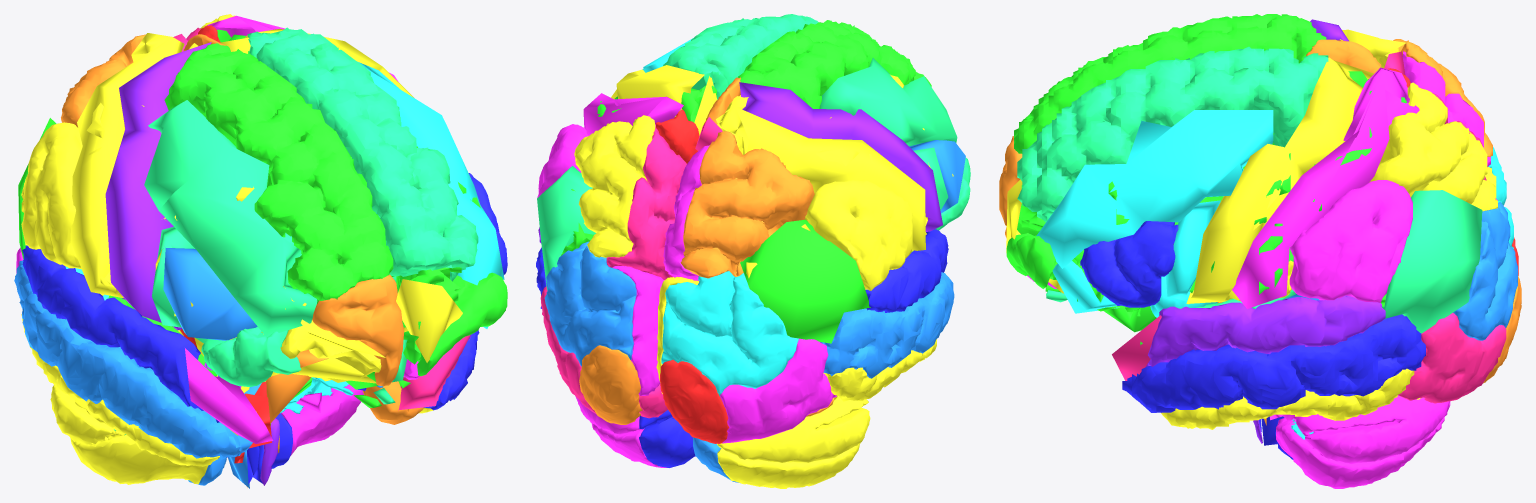
Rendered from gehirn-female-lod.glb.
3 renders of one model, left to right at view 1: azimuth 30°, elevation 25°; view 2: azimuth 150°, elevation 25°; view 3: azimuth 270°, elevation 25°, orthographic. The views are drawn at different scales.
Visible parts, largest first — view 1: 0:113:Allen_superior_frontal_gyrus_L, 0:261:Allen_superior_frontal_gyrus_R, 0:70:Allen_middle_frontal_gyrus_L, 0:71:Allen_middle_temporal_gyrus_L, 0:98:Allen_precentral_gyrus_L, 0:115:Allen_superior_temporal_gyrus_L, 0:92:Allen_postcentral_gyrus_L, 0:116:Allen_supramarginal_gyrus_L, 0:55:Allen_lateral_hemisphere_of_cerebellum_L, 0:214:Allen_middle_frontal_gyrus_R, 0:106:Allen_rostral_gyrus_L, 0:47:Allen_inferior_frontal_gyrus_triangular_part_L (+23 smaller); view 2: 0:118:Allen_supraparietal_lobule_L, 0:114:Allen_superior_occipital_gyrus_L, 0:2:Allen_angular_gyrus_L, 0:55:Allen_lateral_hemisphere_of_cerebellum_L, 0:113:Allen_superior_frontal_gyrus_L, 0:262:Allen_superior_occipital_gyrus_R, 0:116:Allen_supramarginal_gyrus_L, 0:92:Allen_postcentral_gyrus_L, 0:266:Allen_supraparietal_lobule_R, 0:71:Allen_middle_temporal_gyrus_L, 0:98:Allen_precentral_gyrus_L, 0:49:Allen_inferior_occipital_gyrus_L (+28 smaller); view 3: 0:261:Allen_superior_frontal_gyrus_R, 0:214:Allen_middle_frontal_gyrus_R, 0:215:Allen_middle_temporal_gyrus_R, 0:242:Allen_precentral_gyrus_R, 0:236:Allen_postcentral_gyrus_R, 0:264:Allen_supramarginal_gyrus_R, 0:263:Allen_superior_temporal_gyrus_R, 0:195:Allen_lateral_hemisphere_of_cerebellum_R, 0:113:Allen_superior_frontal_gyrus_L, 0:138:Allen_angular_gyrus_R, 0:266:Allen_supraparietal_lobule_R, 0:187:Allen_inferior_frontal_gyrus_triangular_part_R (+18 smaller).
Part boxes in pixels (x1,y1,x2,y2): 0:113:Allen_superior_frontal_gyrus_L: [164, 43, 393, 303]; 0:261:Allen_superior_frontal_gyrus_R: [247, 27, 478, 281]; 0:70:Allen_middle_frontal_gyrus_L: [144, 100, 317, 336]; 0:71:Allen_middle_temporal_gyrus_L: [14, 260, 252, 459]; 0:98:Allen_precentral_gyrus_L: [105, 42, 211, 327]; 0:115:Allen_superior_temporal_gyrus_L: [22, 245, 219, 422]; 0:92:Allen_postcentral_gyrus_L: [70, 33, 184, 298]; 0:116:Allen_supramarginal_gyrus_L: [21, 122, 82, 269]; 0:55:Allen_lateral_hemisphere_of_cerebellum_L: [50, 385, 208, 484]; 0:214:Allen_middle_frontal_gyrus_R: [357, 61, 504, 285]; 0:106:Allen_rostral_gyrus_L: [312, 274, 404, 386]; 0:47:Allen_inferior_frontal_gyrus_triangular_part_L: [163, 248, 257, 340]; 0:118:Allen_supraparietal_lobule_L: [680, 131, 814, 278]; 0:114:Allen_superior_occipital_gyrus_L: [661, 271, 798, 396]; 0:2:Allen_angular_gyrus_L: [740, 219, 870, 343]; 0:55:Allen_lateral_hemisphere_of_cerebellum_L: [717, 396, 870, 488]; 0:113:Allen_superior_frontal_gyrus_L: [738, 20, 931, 108]; 0:262:Allen_superior_occipital_gyrus_R: [544, 241, 636, 366]; 0:116:Allen_supramarginal_gyrus_L: [805, 179, 912, 290]; 0:92:Allen_postcentral_gyrus_L: [716, 106, 925, 251]; 0:266:Allen_supraparietal_lobule_R: [574, 115, 655, 257]; 0:71:Allen_middle_temporal_gyrus_L: [820, 272, 954, 378]; 0:98:Allen_precentral_gyrus_L: [739, 82, 942, 231]; 0:49:Allen_inferior_occipital_gyrus_L: [720, 338, 836, 443]; 0:261:Allen_superior_frontal_gyrus_R: [1017, 46, 1328, 222]; 0:214:Allen_middle_frontal_gyrus_R: [1036, 110, 1273, 268]; 0:215:Allen_middle_temporal_gyrus_R: [1122, 314, 1425, 412]; 0:242:Allen_precentral_gyrus_R: [1186, 57, 1362, 303]; 0:236:Allen_postcentral_gyrus_R: [1232, 67, 1419, 308]; 0:264:Allen_supramarginal_gyrus_R: [1289, 180, 1412, 302]; 0:263:Allen_superior_temporal_gyrus_R: [1145, 295, 1385, 367]; 0:195:Allen_lateral_hemisphere_of_cerebellum_R: [1270, 395, 1450, 488]; 0:113:Allen_superior_frontal_gyrus_L: [1014, 14, 1326, 153]; 0:138:Allen_angular_gyrus_R: [1382, 190, 1482, 333]; 0:266:Allen_supraparietal_lobule_R: [1369, 82, 1497, 211]; 0:187:Allen_inferior_frontal_gyrus_triangular_part_R: [1080, 221, 1178, 307].
Size of the model in its own units: 0.1365 by 0.1459 by 0.167.
